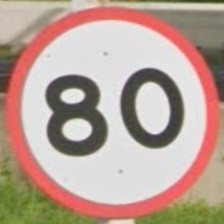80KPH: (6, 7, 221, 219)
